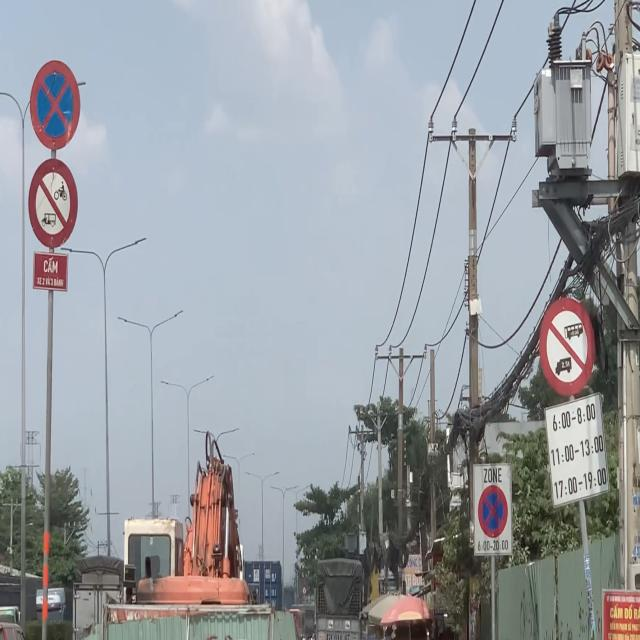Cam con lai: (538, 294, 596, 397), (27, 157, 79, 251)
Cam dung va do: (30, 60, 80, 150), (478, 485, 508, 538)
